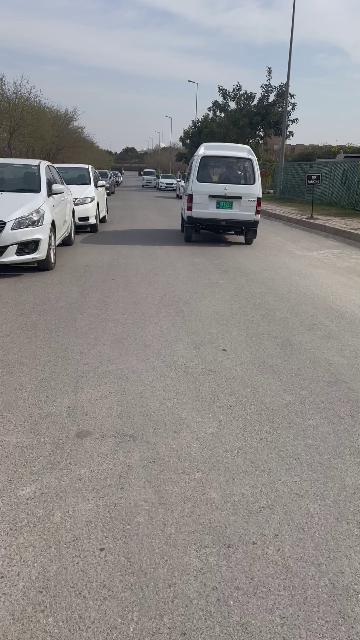plate: (215, 200, 233, 210)
